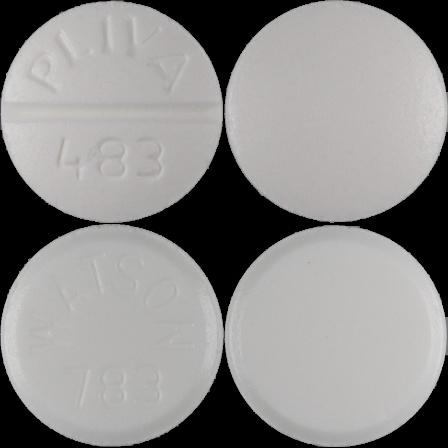54868-1461: (0, 0, 224, 224)
